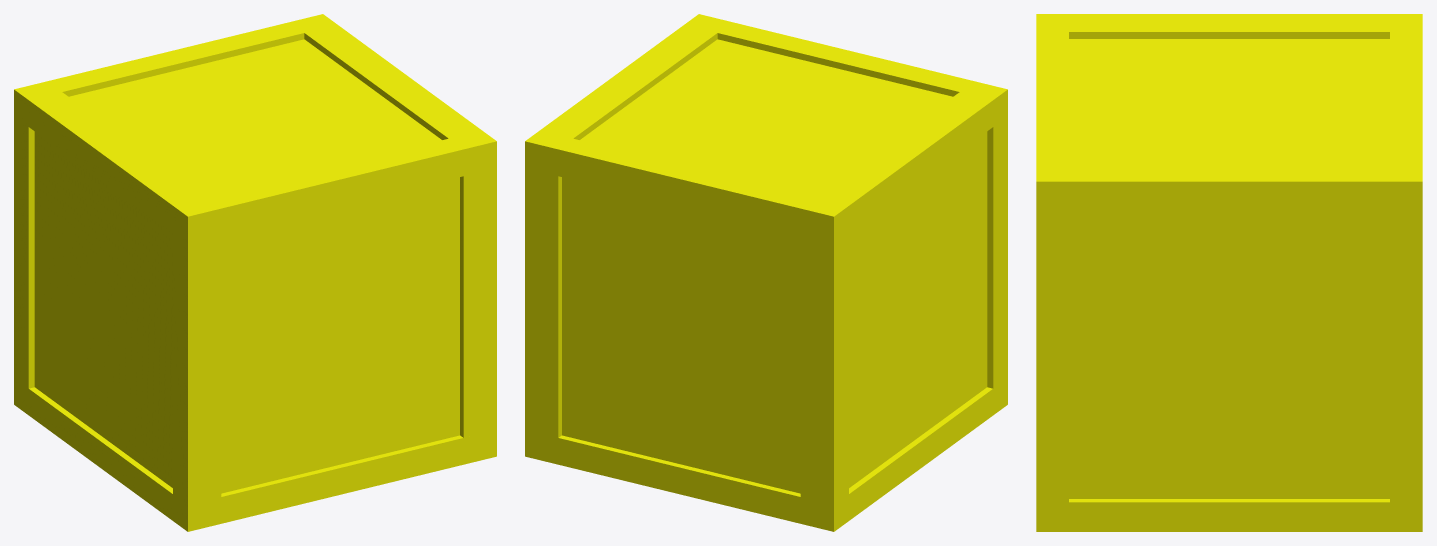
The model's file is cratefc33d335.glb.
3 renders of one model, left to right at view 1: azimuth 30°, elevation 25°; view 2: azimuth 150°, elevation 25°; view 3: azimuth 270°, elevation 25°, orthographic. The views are drawn at different scales.
Visible parts, largest first — view 1: crateSurface, polySurface474, polySurface475, polySurface476, polySurface477, polySurface472, polySurface470, polySurface480, polySurface473; view 2: crateSurface, polySurface474, polySurface477, polySurface470, polySurface473, polySurface480, polySurface479, polySurface471, polySurface475, polySurface472; view 3: polySurface479, polySurface472, crateSurface, polySurface476, polySurface474, polySurface470, polySurface477, polySurface473, polySurface480, polySurface475.
Boxes of the visible parts, <box> form: crateSurface: <box>14,16,488,531</box>; polySurface474: <box>195,104,467,218</box>; polySurface475: <box>167,174,288,521</box>; polySurface476: <box>195,344,496,529</box>; polySurface477: <box>55,77,202,178</box>; polySurface472: <box>405,94,496,353</box>; polySurface470: <box>204,14,378,108</box>; polySurface480: <box>123,45,257,108</box>; polySurface473: <box>261,55,431,119</box>; crateSurface: <box>532,16,1007,531</box>; polySurface474: <box>689,39,915,146</box>; polySurface477: <box>755,115,934,351</box>; polySurface470: <box>525,100,766,198</box>; polySurface473: <box>581,61,727,128</box>; polySurface480: <box>641,147,766,182</box>; polySurface479: <box>525,194,532,458</box>; polySurface471: <box>800,350,808,498</box>; polySurface475: <box>907,87,966,120</box>; polySurface472: <box>634,14,718,68</box>; polySurface479: <box>1177,239,1422,531</box>; polySurface472: <box>1036,177,1266,438</box>; crateSurface: <box>1036,14,1422,177</box>; polySurface476: <box>1036,417,1257,531</box>; polySurface474: <box>1069,50,1286,163</box>; polySurface470: <box>1267,91,1422,246</box>; polySurface477: <box>1139,28,1389,90</box>; polySurface473: <box>1158,117,1297,264</box>; polySurface480: <box>1287,73,1389,144</box>; polySurface475: <box>1069,28,1141,62</box>.
Bounding box in the file's own units: 5.08 × 4.95 × 4.95.
1 material, 1 textured.
